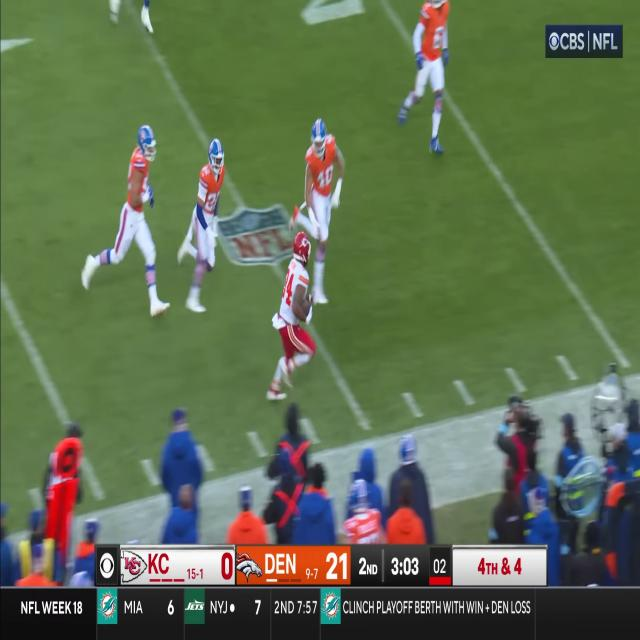Player: (108, 126, 170, 314), (270, 232, 316, 406), (186, 138, 229, 314), (407, 0, 449, 156), (306, 114, 336, 304)
